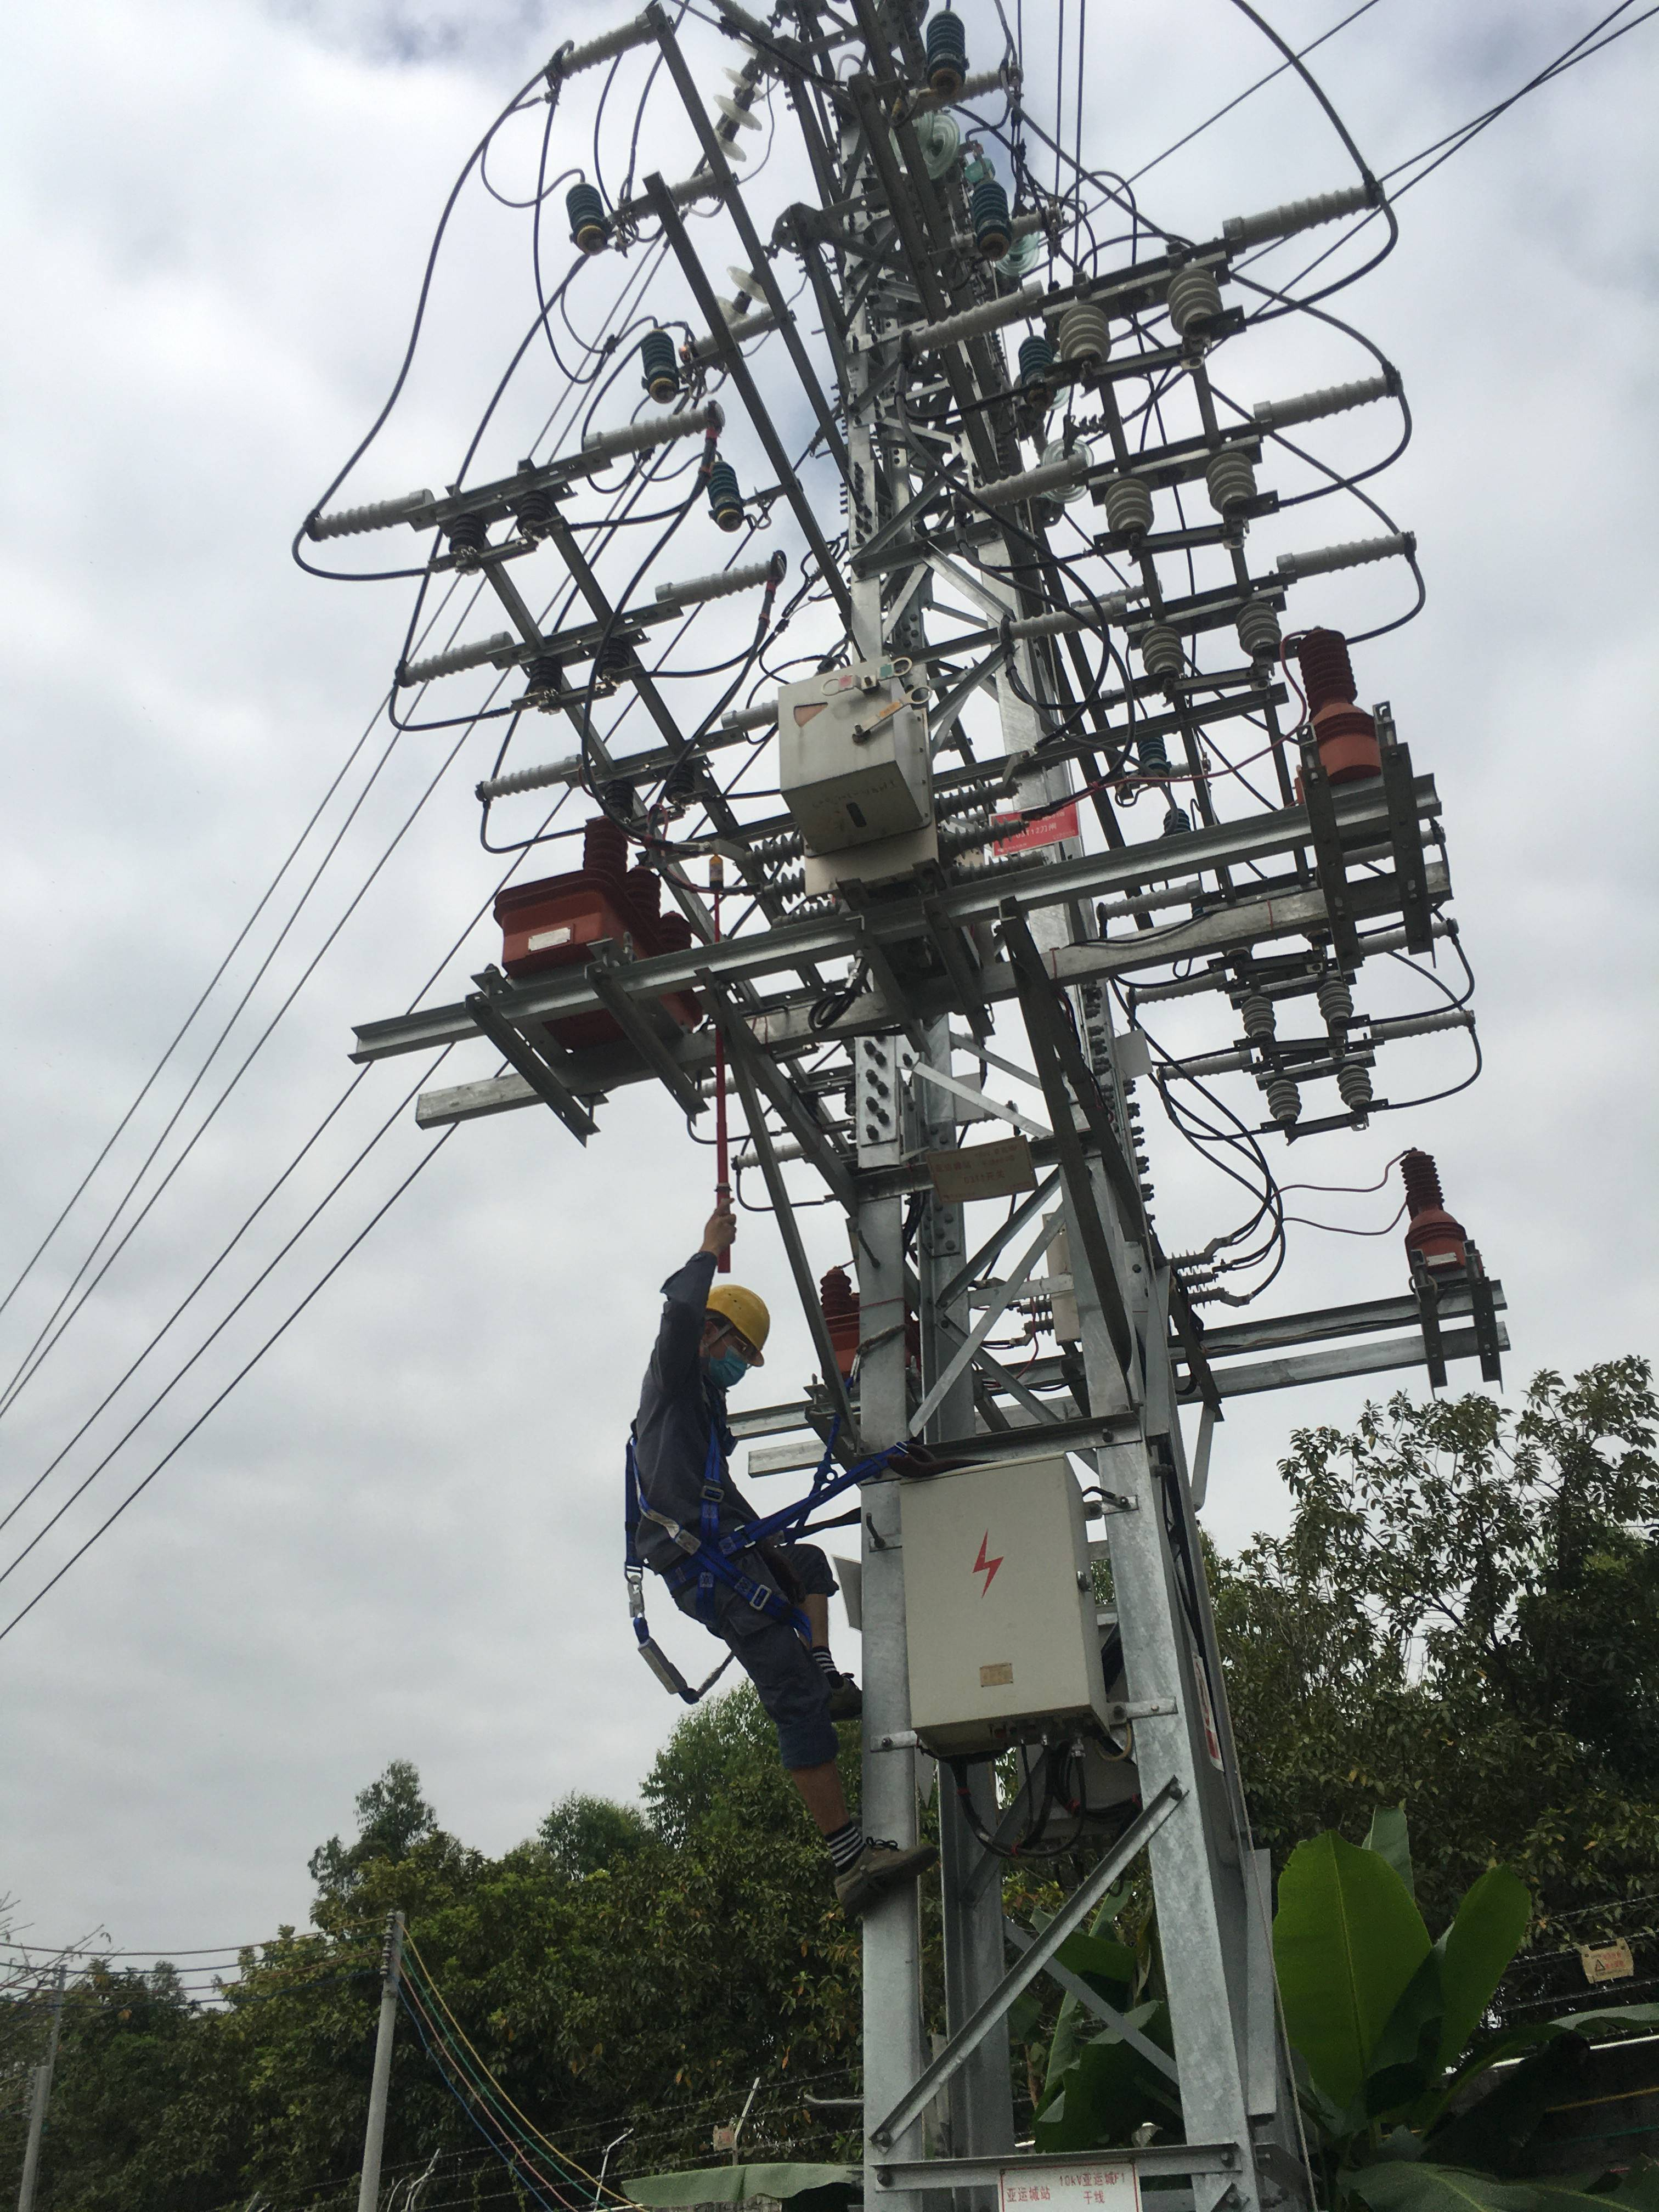downsuit: (692, 1561, 863, 1759)
upsuit: (629, 1254, 784, 1555)
wrongbottom: (774, 1738, 873, 1869), (791, 1573, 838, 1665)
